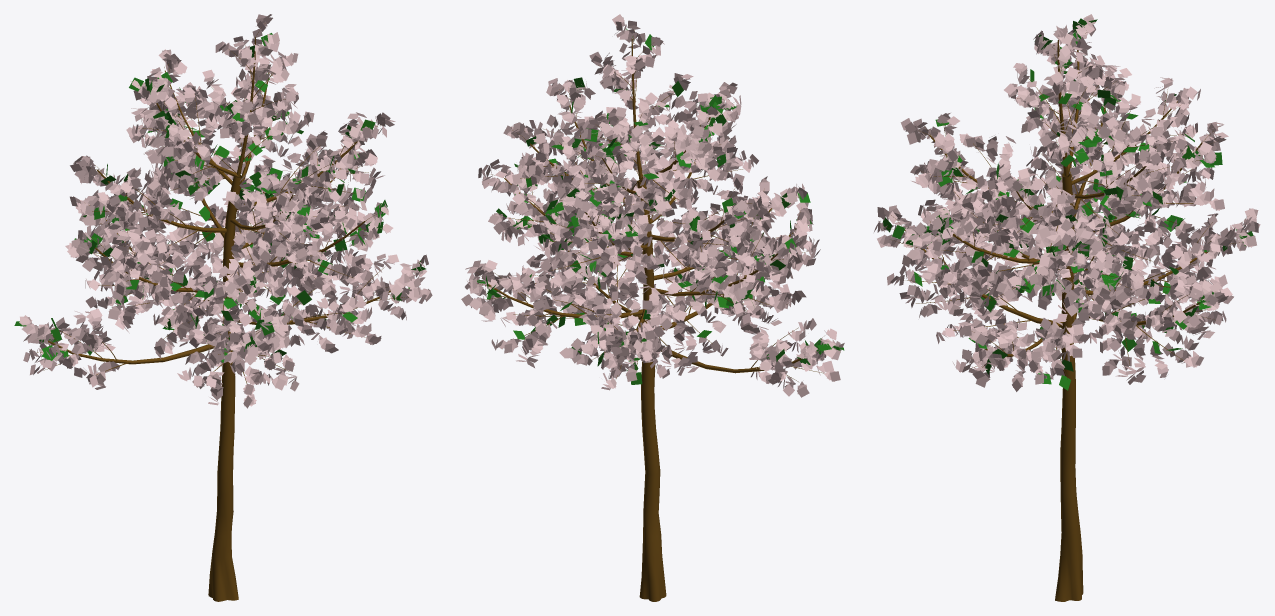
Rendered from Baum2 Neu.FBX.
3 renders of one model, left to right at view 1: azimuth 30°, elevation 25°; view 2: azimuth 150°, elevation 25°; view 3: azimuth 270°, elevation 25°, orthographic. The views are drawn at different scales.
Parts seen in each view (by area): view 1: Foliage013; view 2: Foliage013; view 3: Foliage013.
Boxes of the visible parts, x1,y1,x2,y2 form: Foliage013: (14, 14, 432, 601); Foliage013: (461, 14, 844, 601); Foliage013: (874, 14, 1260, 601).
Size of the model in its own units: 783 by 1188 by 705.
